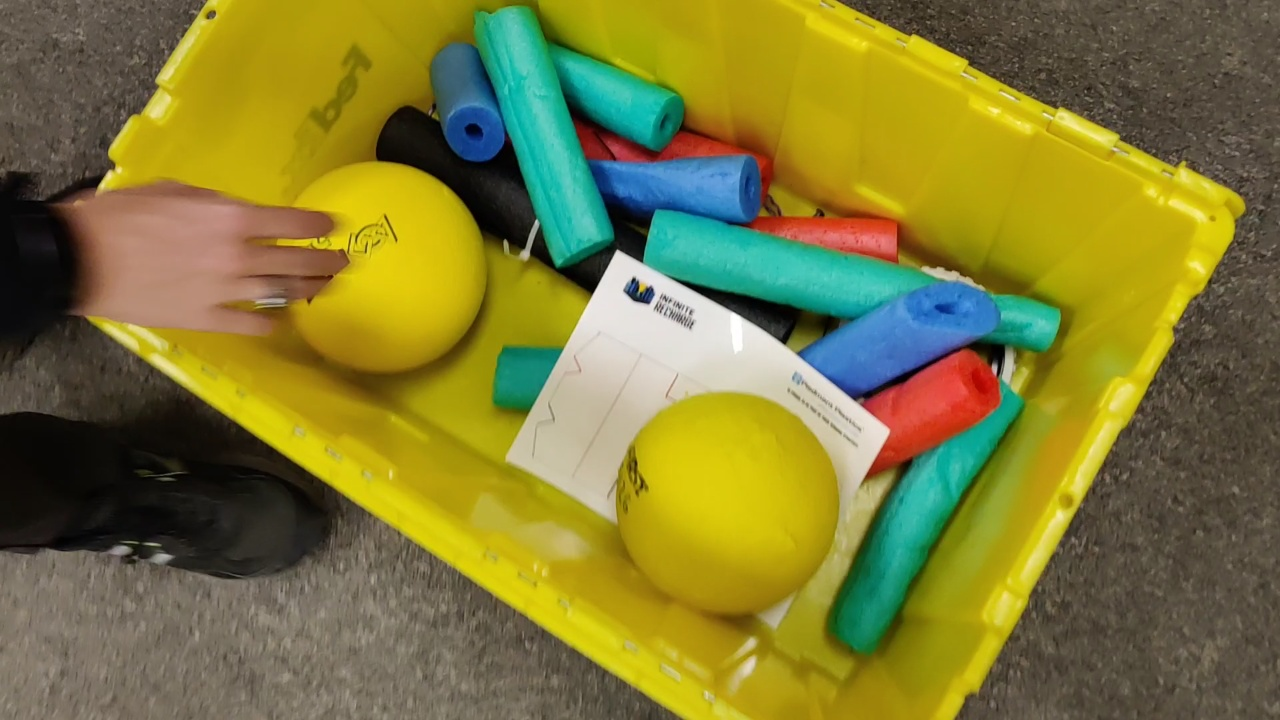Ball: (616, 392, 840, 609), (288, 162, 487, 374)
